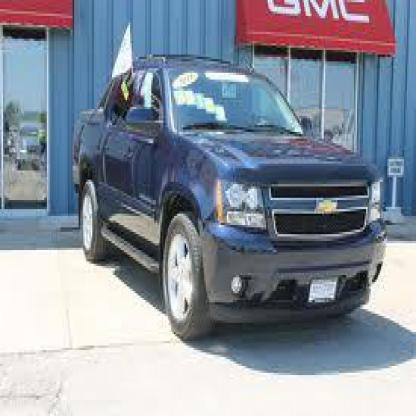Vehicle: (71, 41, 392, 355)
